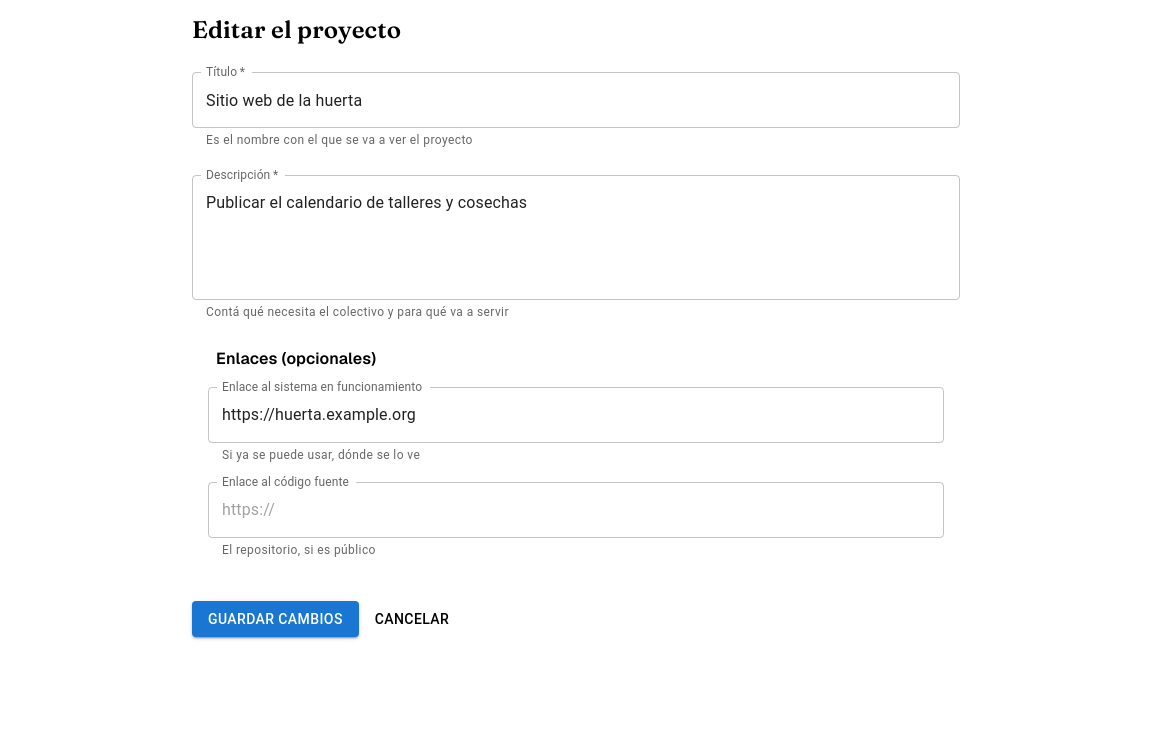
it: EditarProyecto › manda solo lo que cambió y vuelve a la página del proyecto
Replace the text in the field labelled "Título *" with "Sitio de la huerta": [576, 100] box x1=192 y1=72 x2=960 y2=128
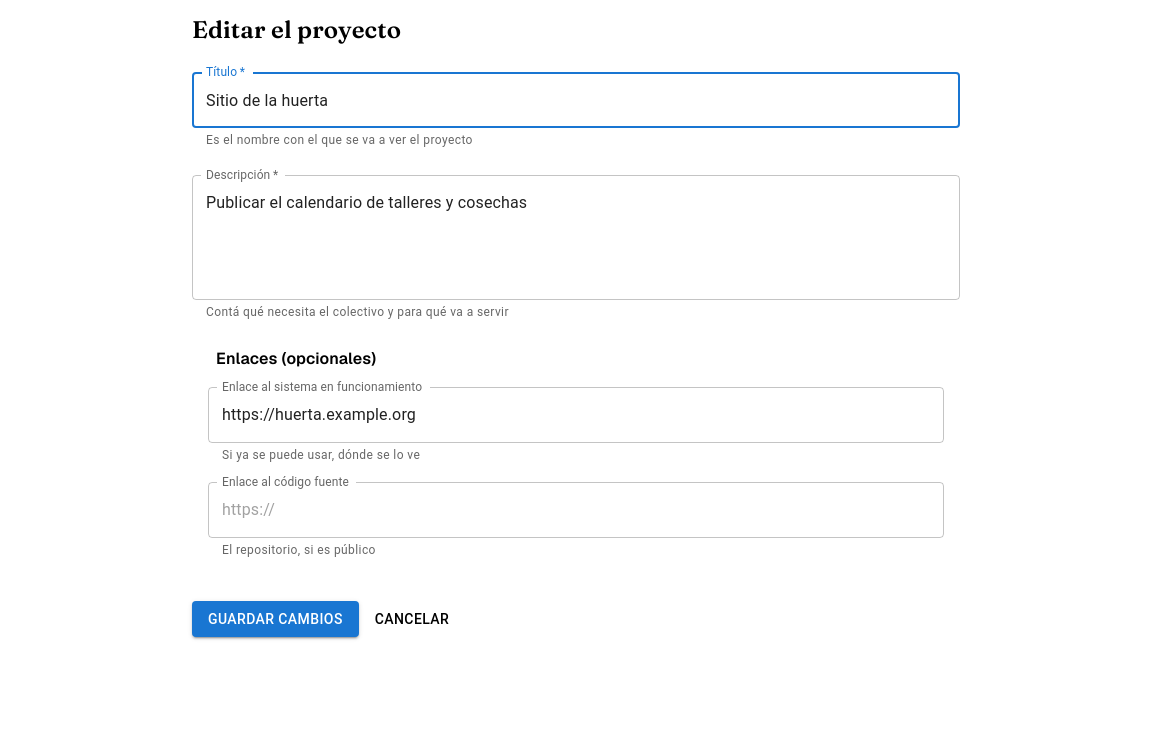
In the field labelled "Enlace al código fuente": [576, 510] box x1=208 y1=482 x2=944 y2=538, type "https://git.example.org/huerta"
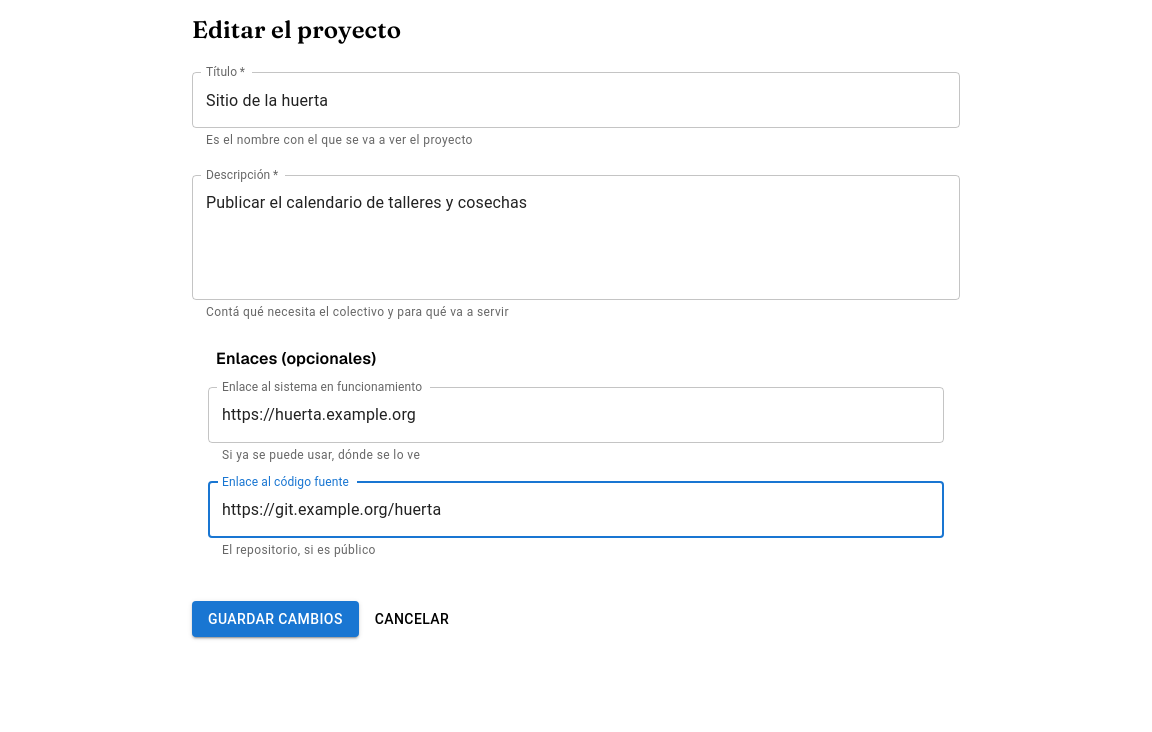
Click the button "Guardar cambios": [275, 619] box x1=192 y1=601 x2=359 y2=637
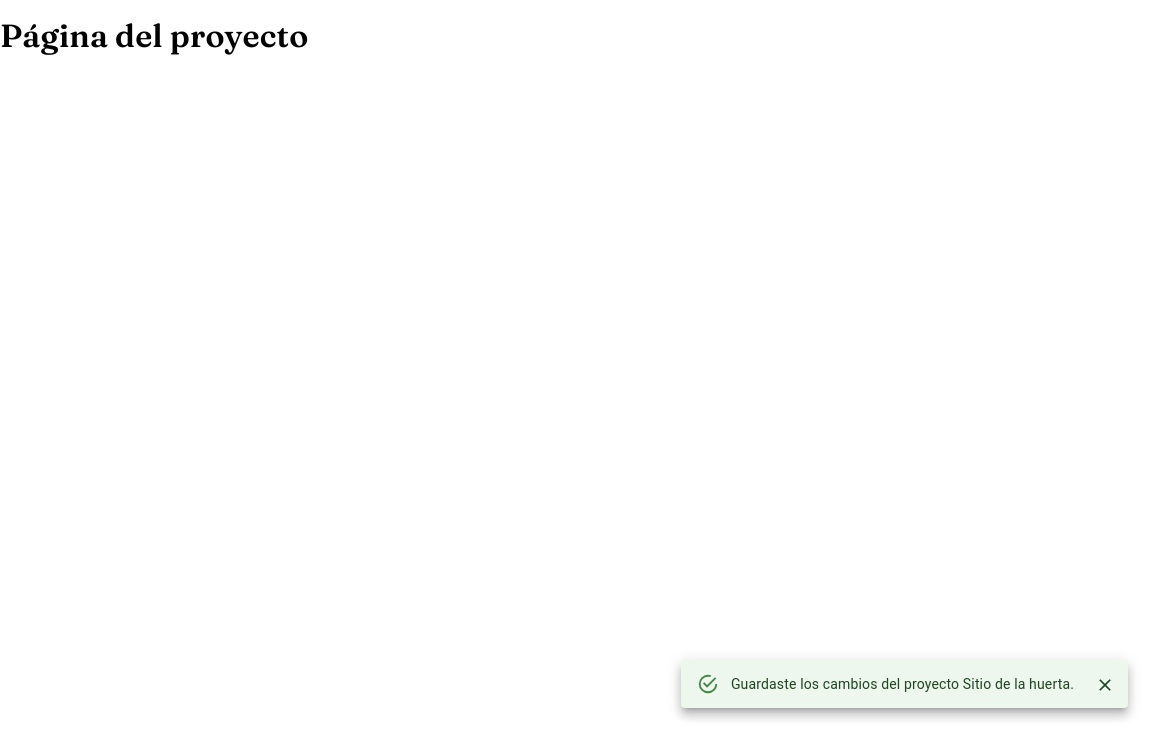
Check: the heading "Página del proyecto" is shown, box x1=0 y1=16 x2=308 y2=55
Check: the text "Guardaste los cambios del proyecto Sitio de la huerta." is shown, box x1=731 y1=676 x2=1074 y2=692
